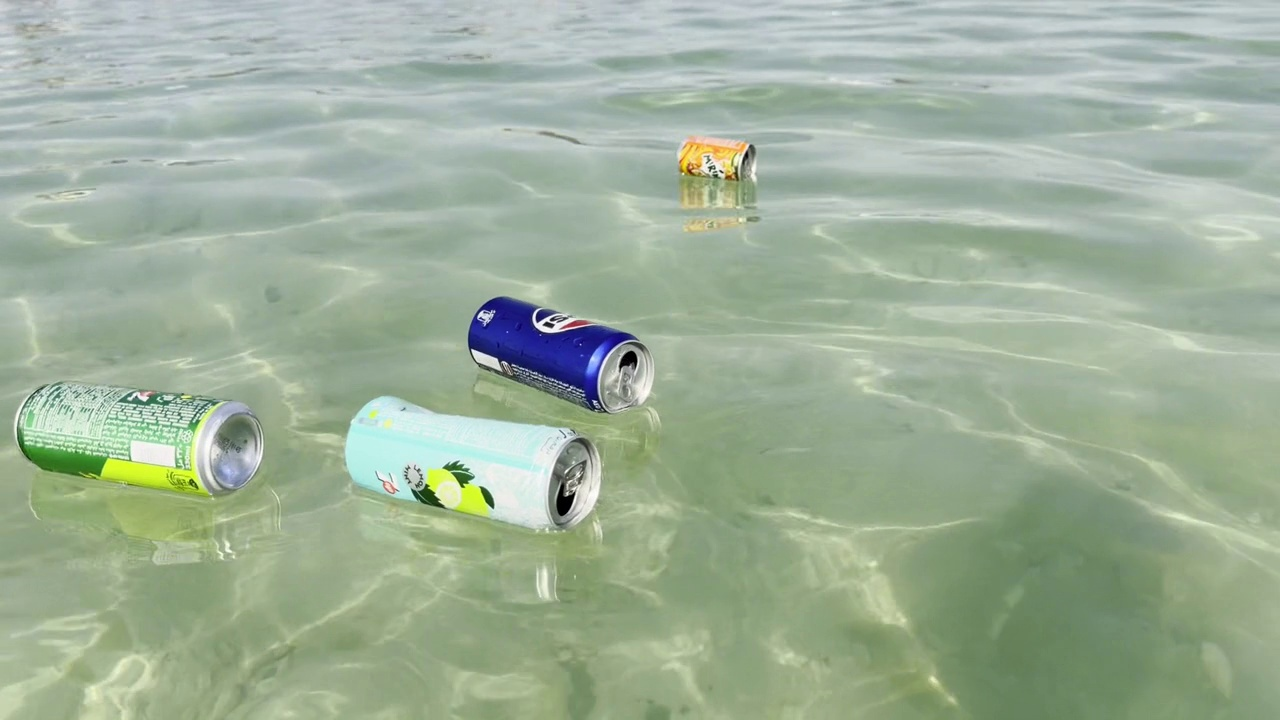debris: (336, 385, 609, 545), (7, 375, 272, 506), (465, 285, 662, 431), (671, 132, 762, 185)
